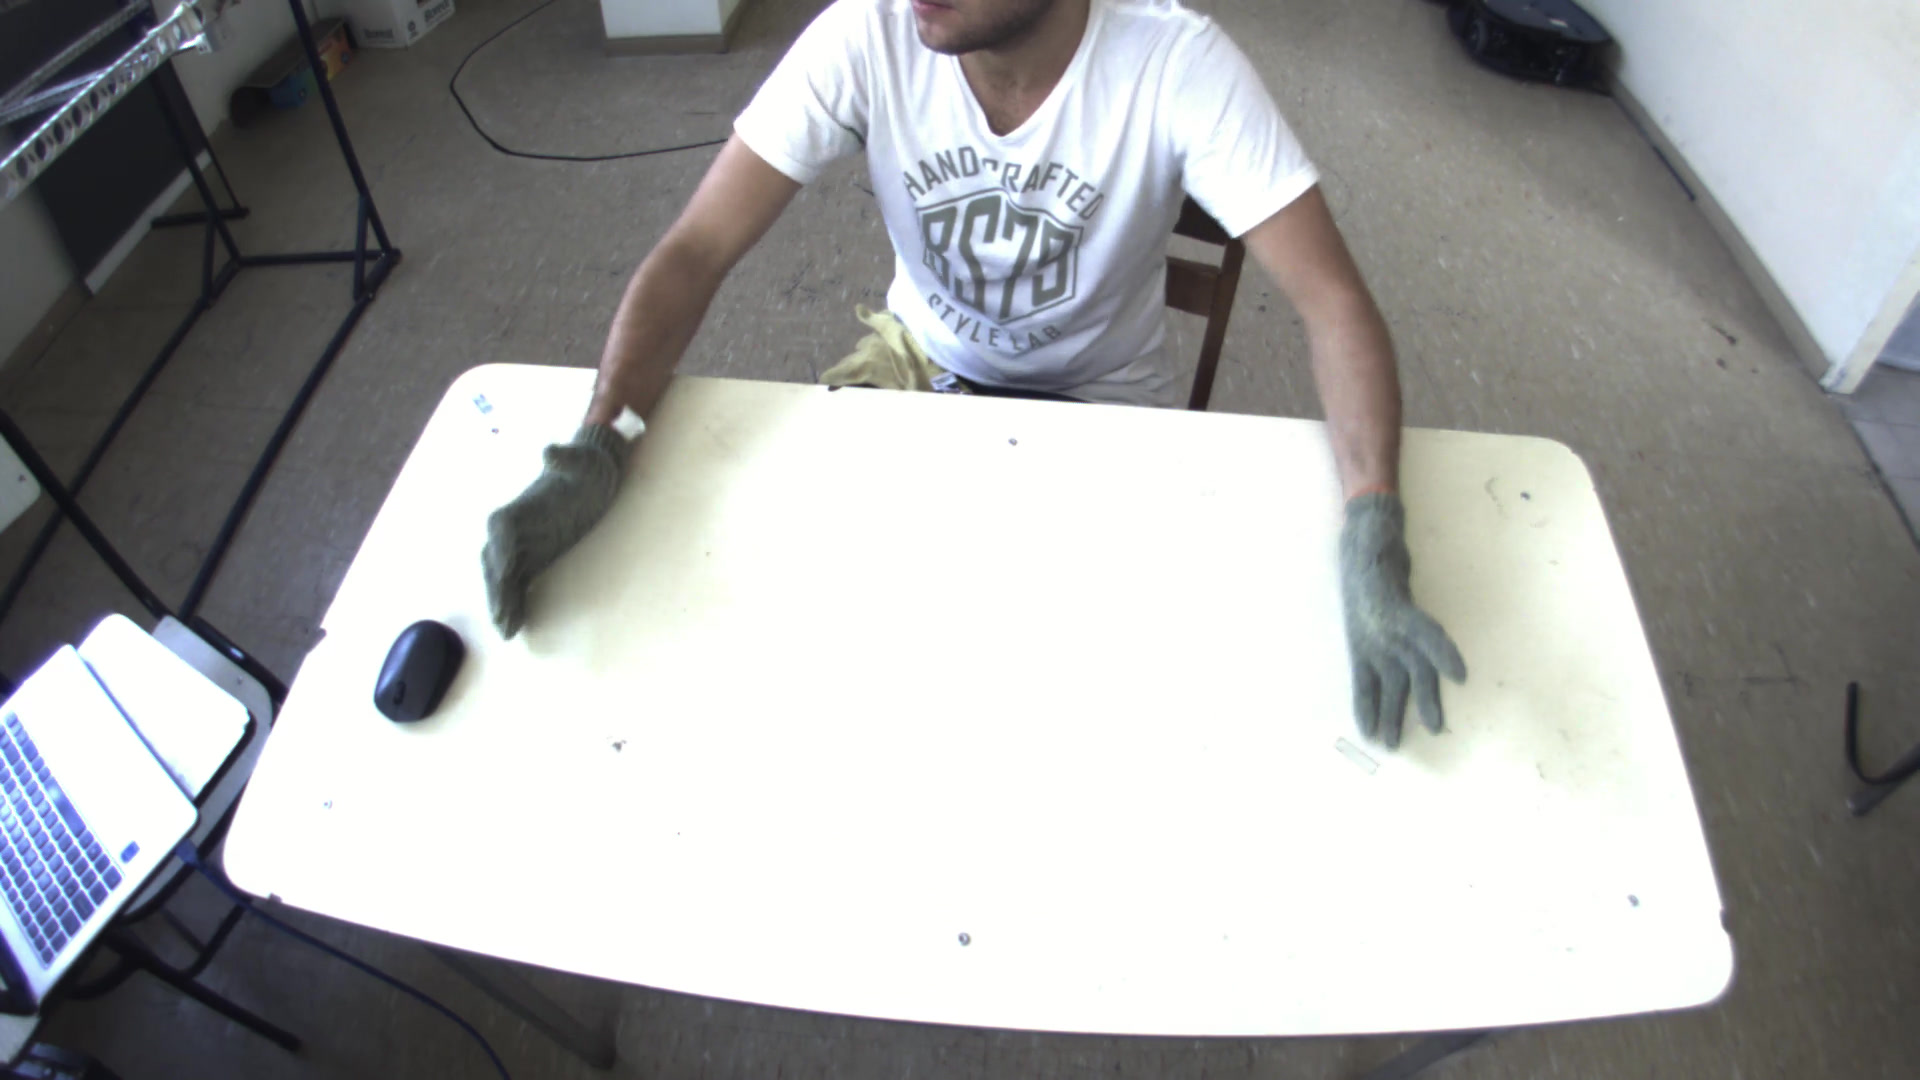hand: (1332, 493, 1484, 756), (469, 417, 636, 642)
